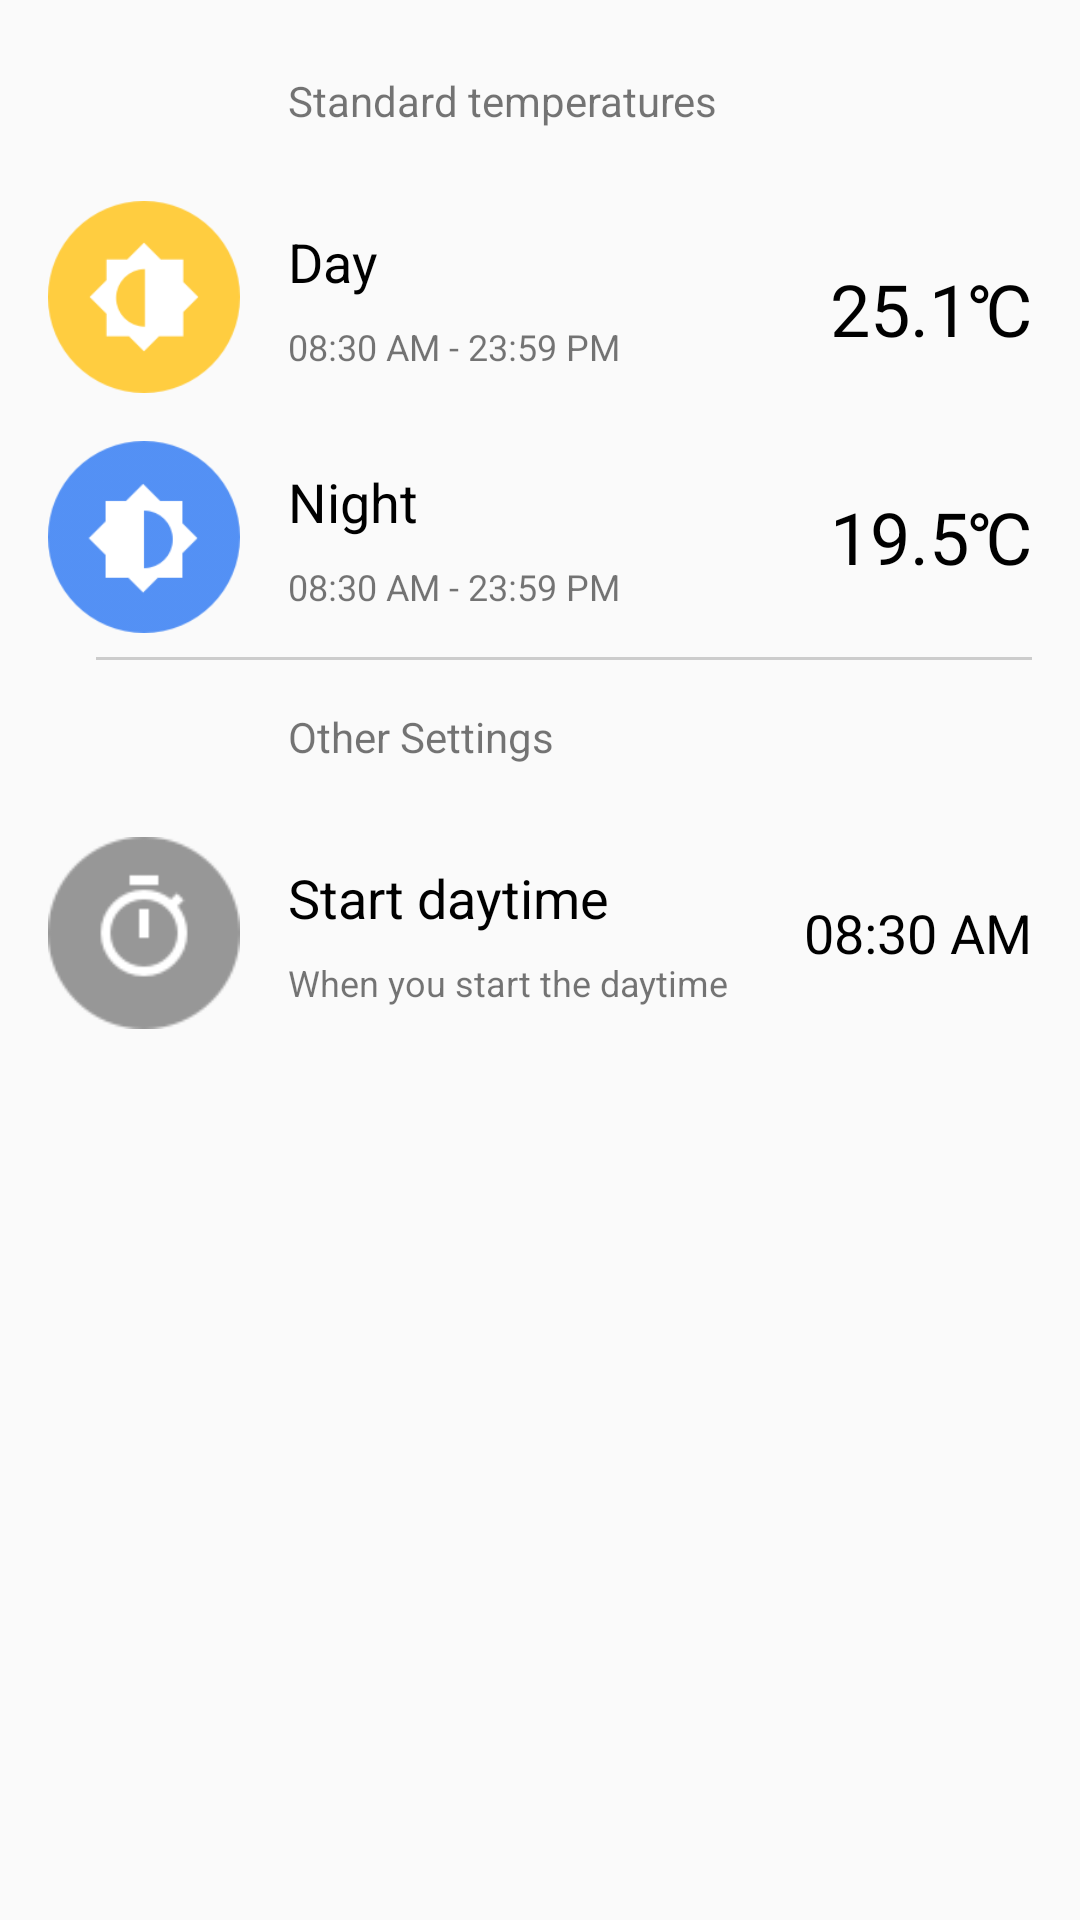

Named icons in this screenshot (1080w x 1920h) and their bounding boxes, (left=x1, top=y1, right=x2, bottom=y2):
time change: (left=48, top=837, right=240, bottom=1029)
